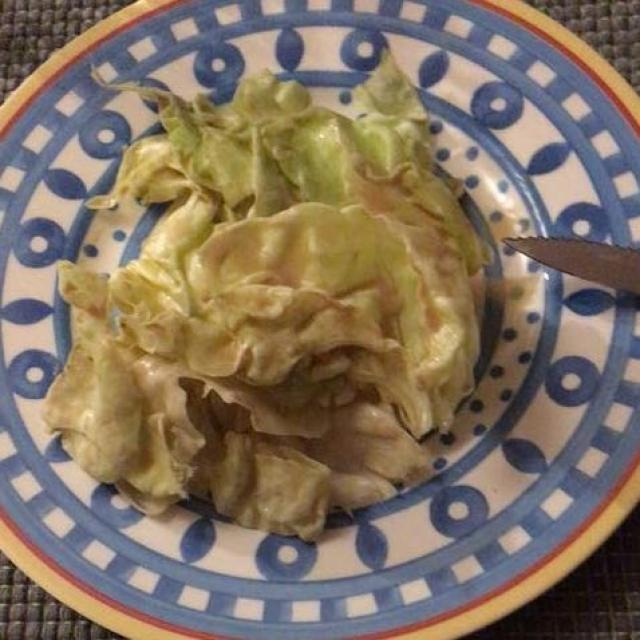salad: (49, 66, 487, 530)
